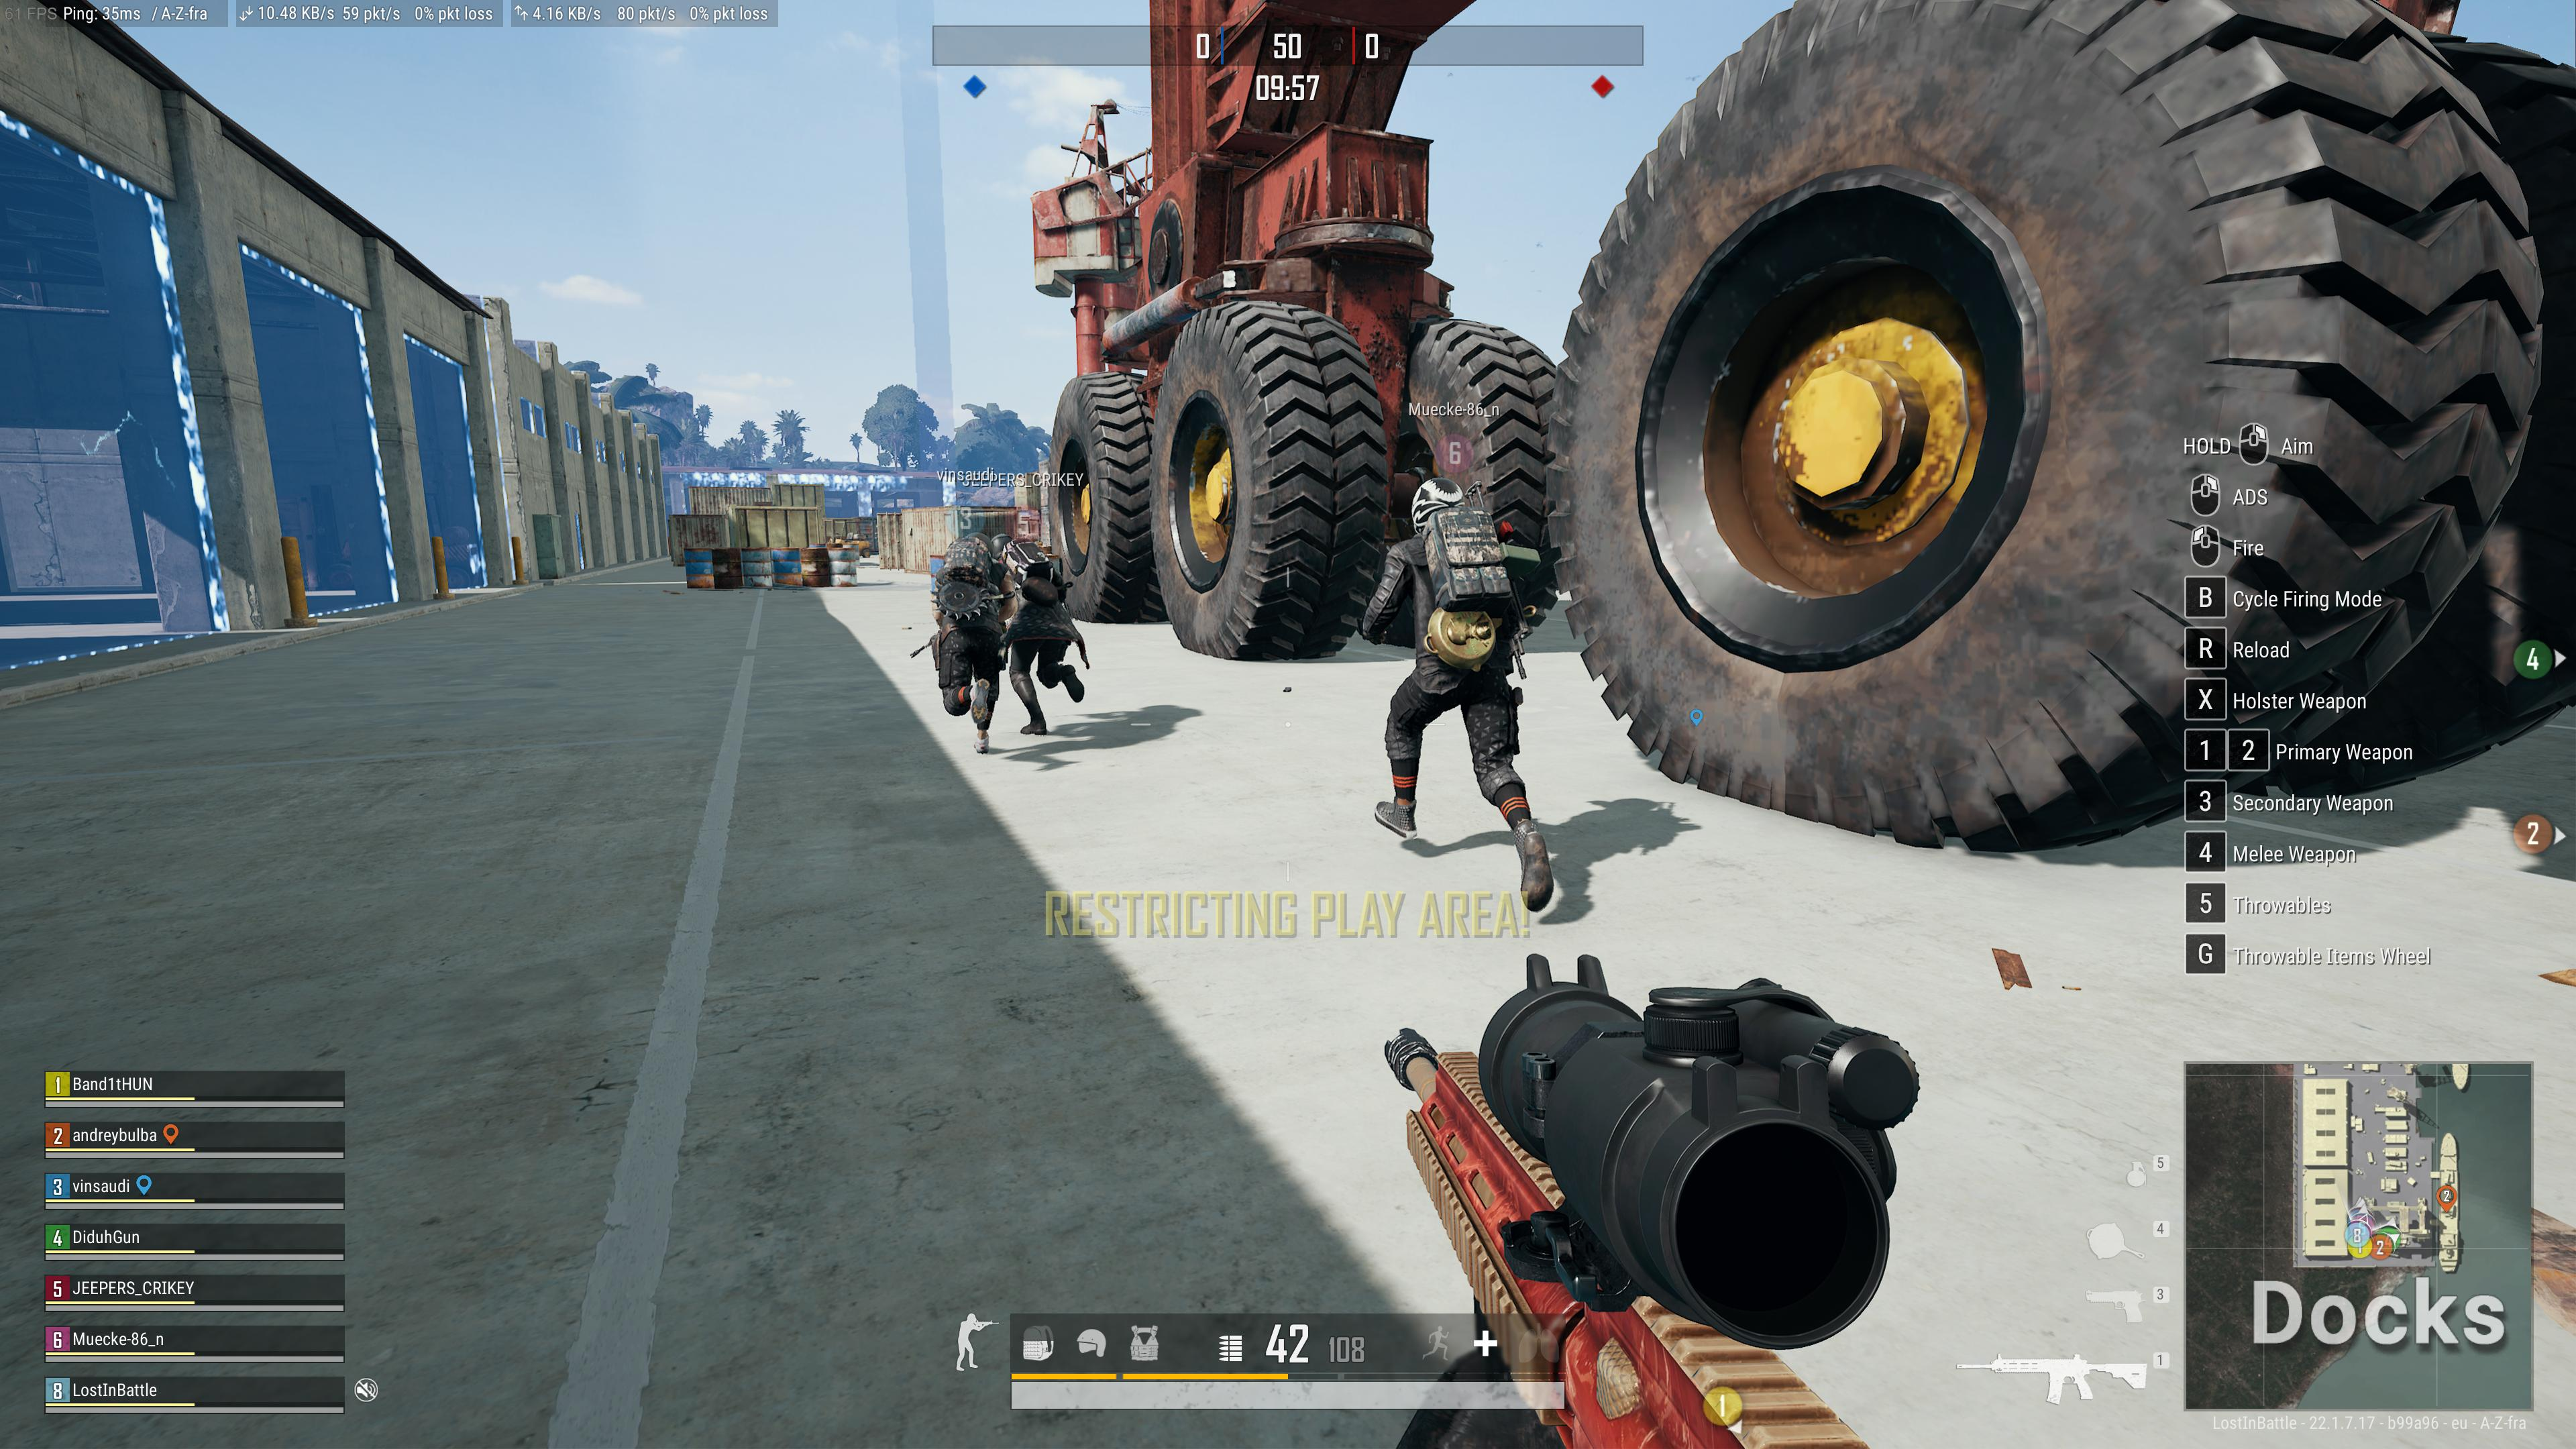friendly: (1361, 449, 1555, 913), (991, 522, 1090, 738), (925, 517, 1010, 754)
